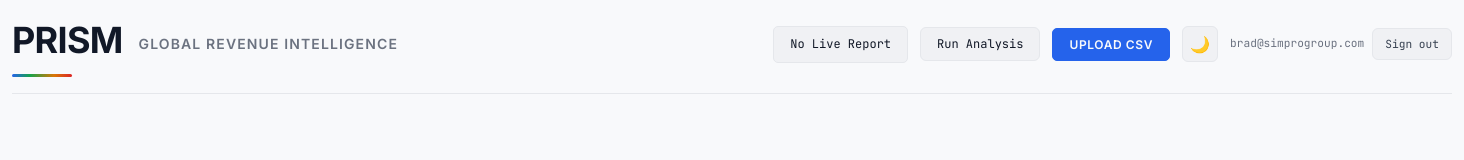
Test: Header run analysis › sends the signed-in user token once confirmed
The width and height of the screenshot is (1464, 160).
Click the button "Run Analysis" at [980, 44], box [920,27,1040,61]
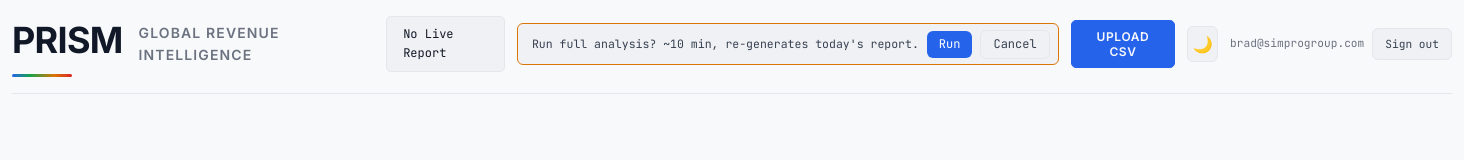
Click the button "Run" at [950, 44], box [927,31,972,58]
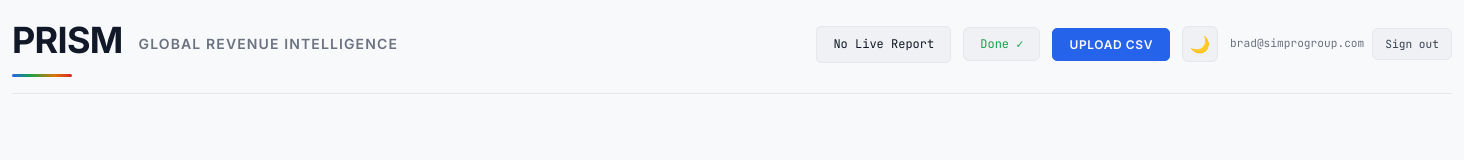
Check: the button "Done ✓" is shown, box [963,27,1040,61]
